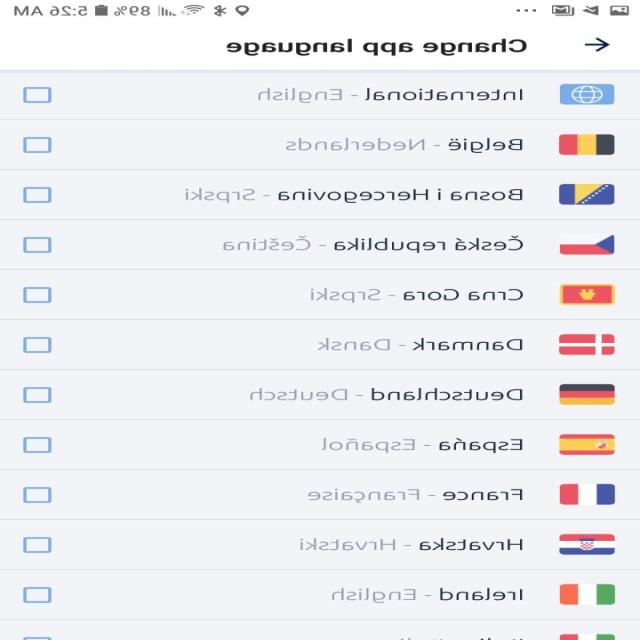Icon: (584, 37, 610, 52)
Image: (559, 533, 616, 555), (560, 283, 616, 305), (559, 333, 615, 355), (559, 383, 615, 405), (560, 483, 616, 505), (560, 583, 616, 605), (560, 83, 615, 105), (559, 434, 616, 455), (559, 134, 615, 155), (559, 183, 615, 204), (560, 234, 615, 255), (559, 633, 615, 640)
Text: (223, 235, 524, 253), (186, 187, 524, 203), (227, 38, 527, 56), (258, 88, 524, 103), (286, 138, 524, 153), (251, 388, 524, 400), (308, 488, 524, 503), (322, 437, 524, 453), (311, 288, 524, 303), (301, 537, 524, 550), (332, 588, 524, 603), (317, 338, 524, 350)
